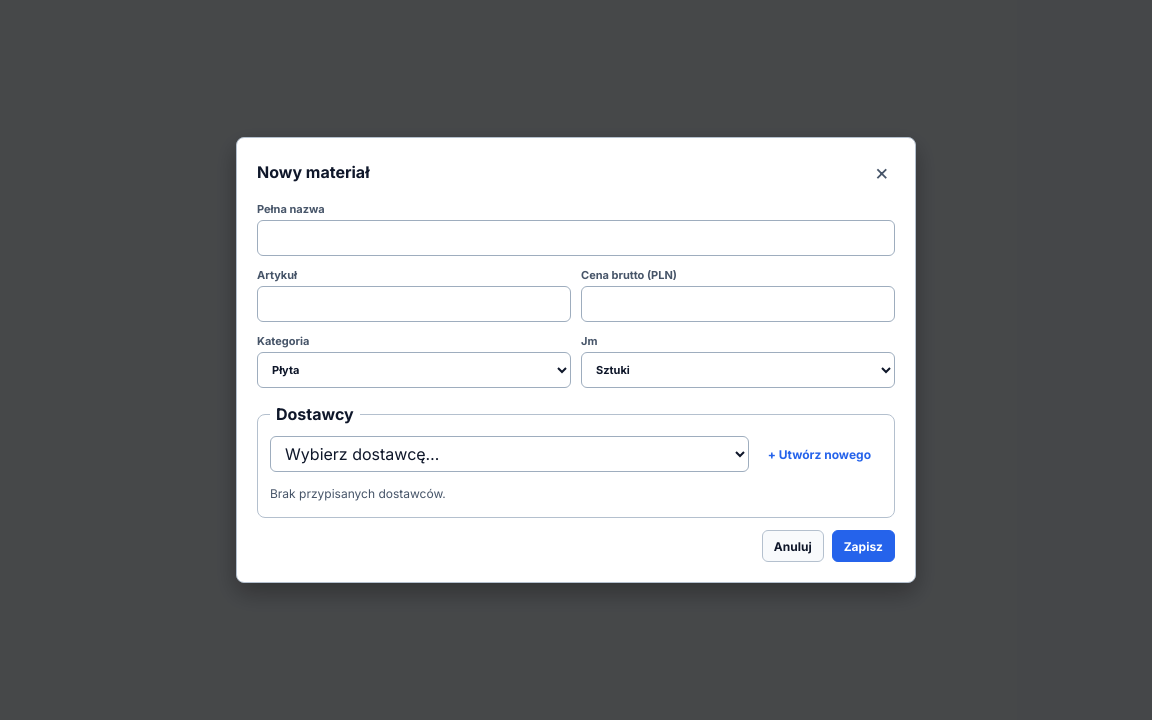
Test: MaterialEditorDialog › creates a supplier on the fly and attaches it
The width and height of the screenshot is (1152, 720).
In the field labelled "Pełna nazwa": (576, 238) x1=257 y1=220 x2=895 y2=256, type "Blat"
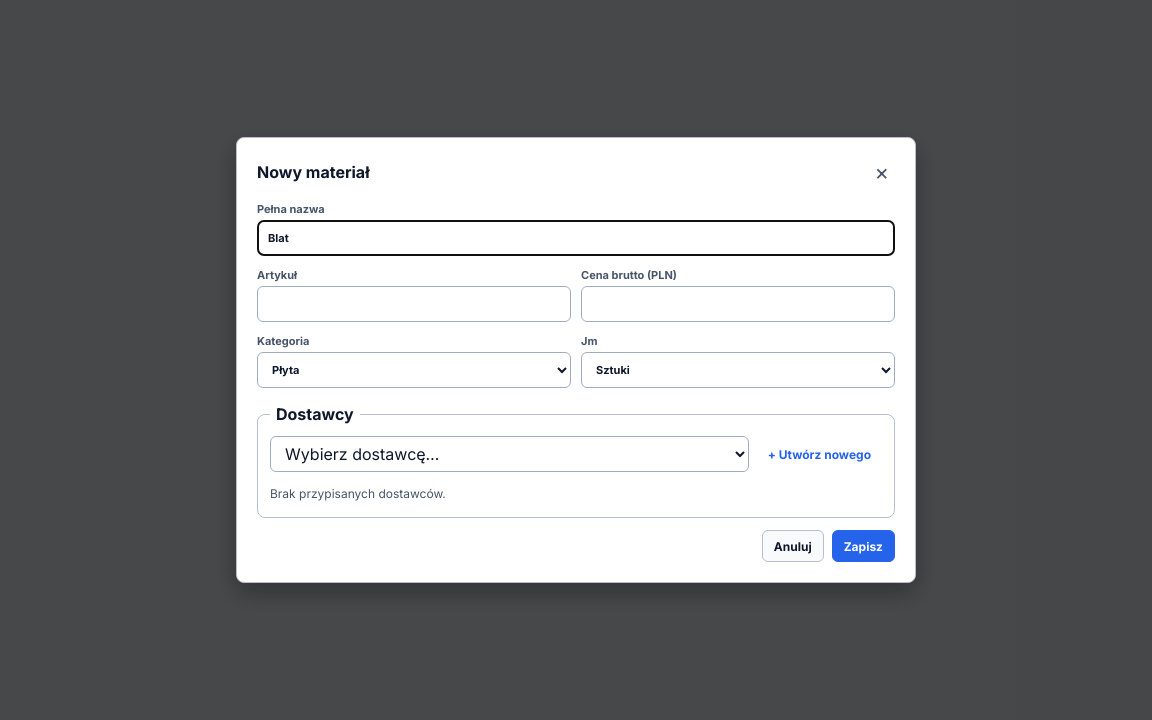
In the number field labelled "Cena brutto (PLN)": (738, 304) x1=581 y1=286 x2=895 y2=322, type "50"
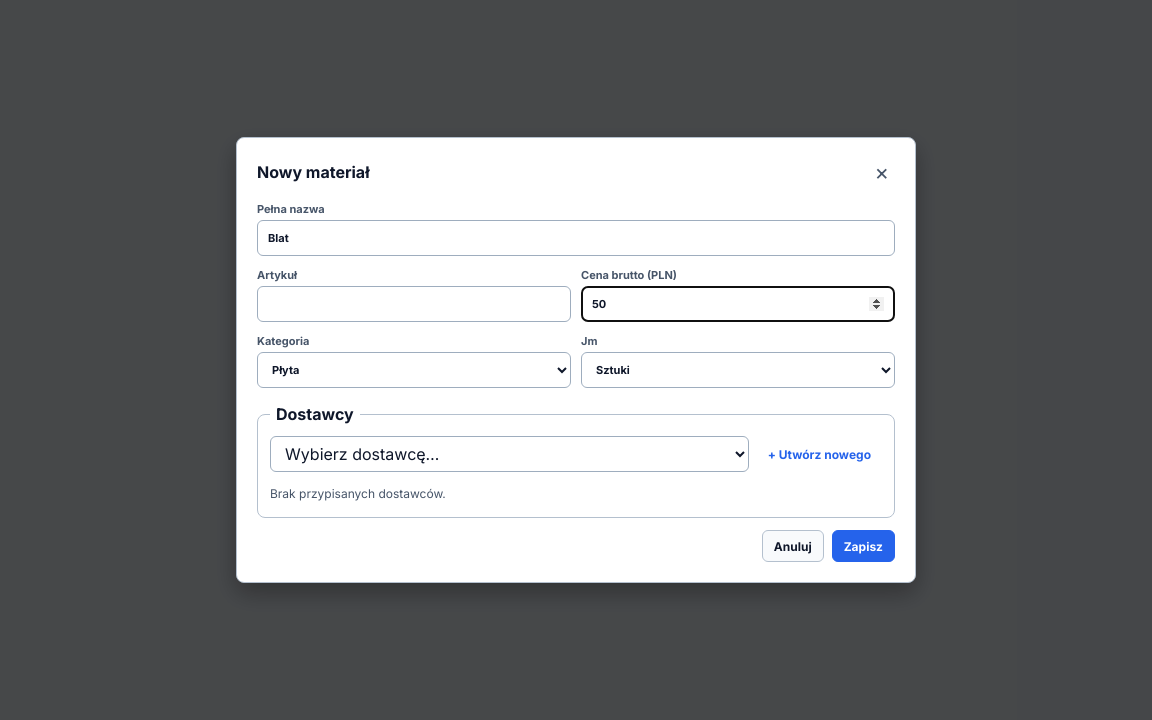
Click the button "+ Utwórz nowego": click(819, 454) x1=757 y1=438 x2=882 y2=470
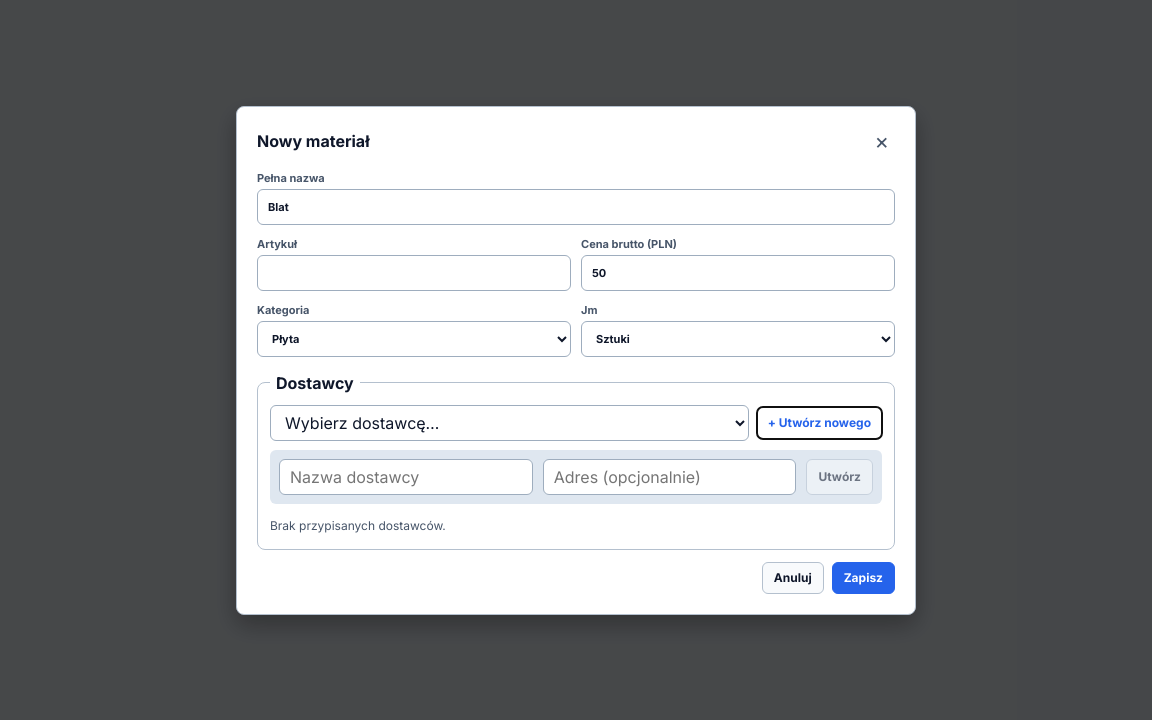
In the field named "Nazwa nowego dostawcy": (406, 476) x1=279 y1=458 x2=533 y2=494, type "Gamma"
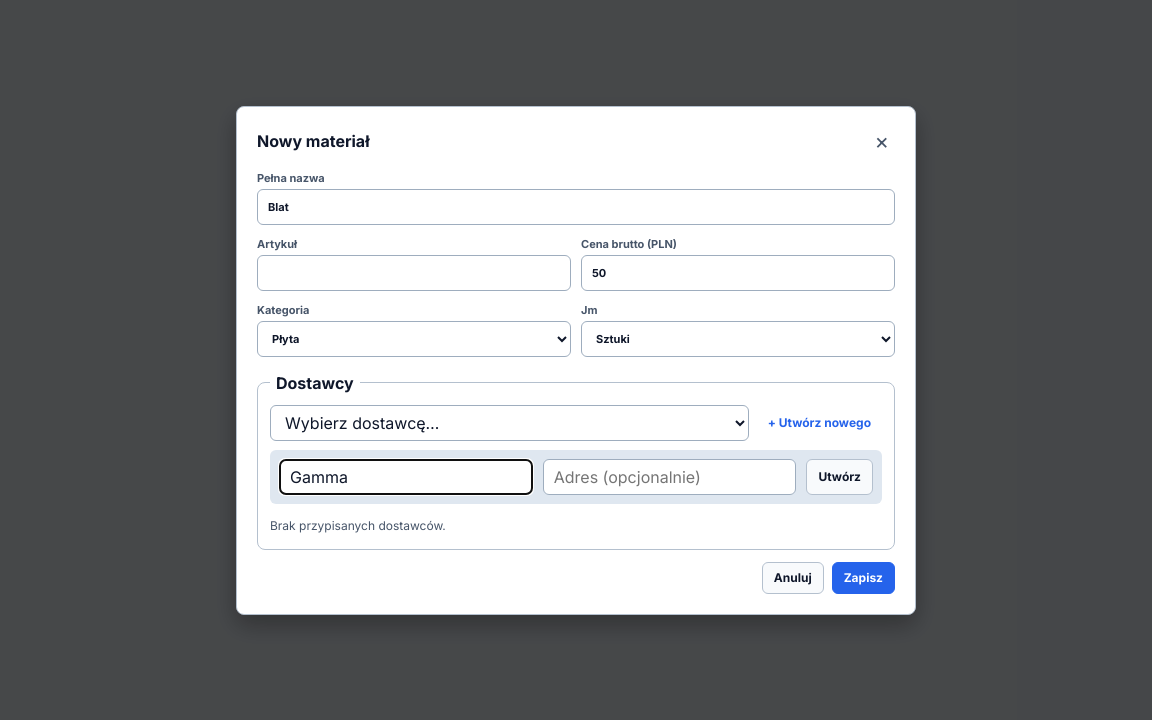
Click the button "Utwórz": click(840, 476) x1=806 y1=458 x2=873 y2=494
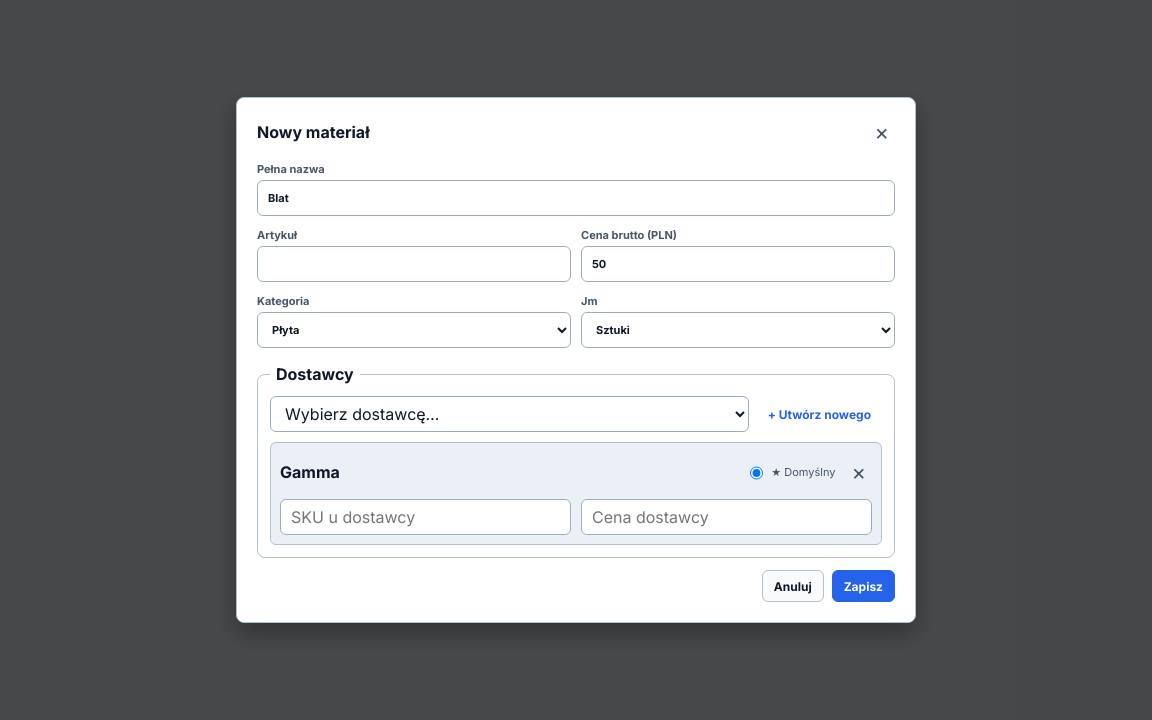
expect the text "Gamma" is shown: met, box x1=280 y1=462 x2=340 y2=482
